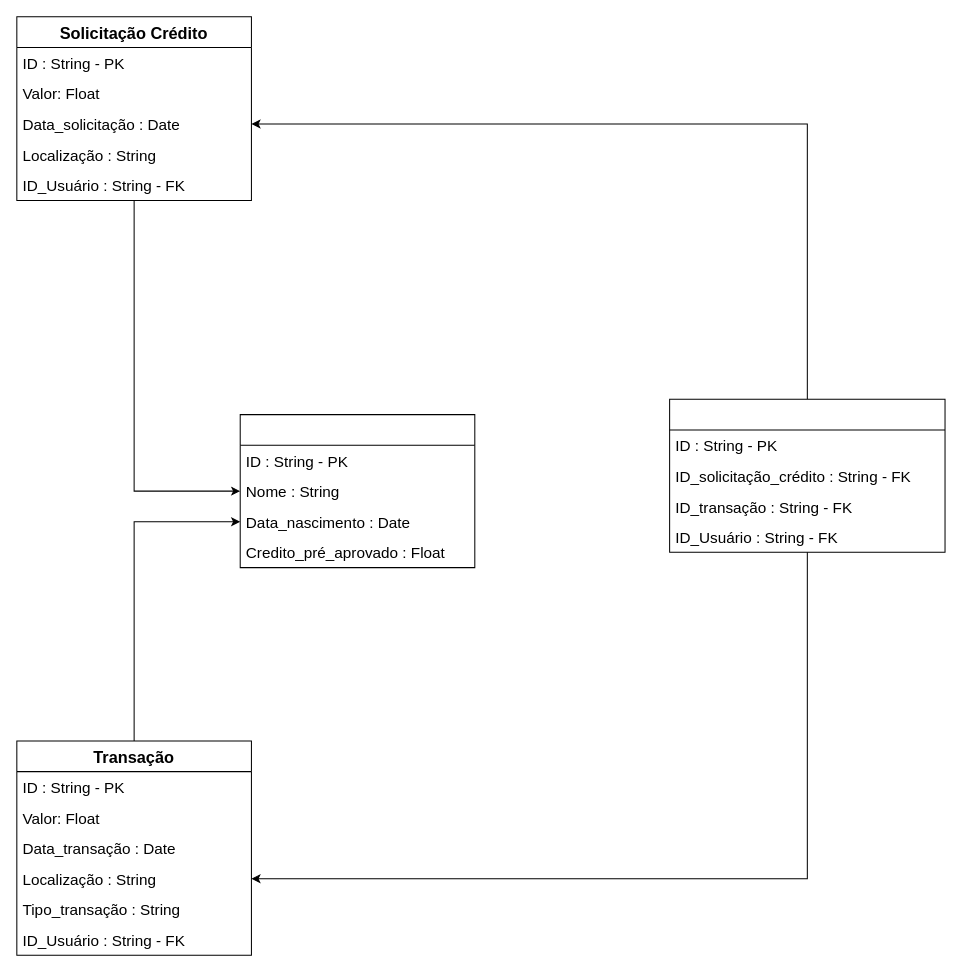
Some shapes in this 962 by 972 pixel diagram are drawn without their labels. Here are the shapes that lost their labels. From the top down, the box of each, then its label:
(239, 414, 475, 568): Cliente
(669, 398, 945, 552): Consulta Serasa
